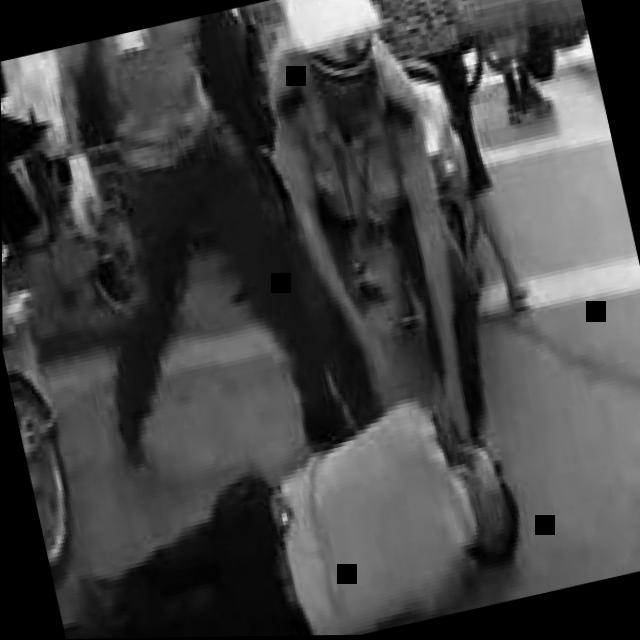Fall-Detected: (21, 339, 549, 640)
